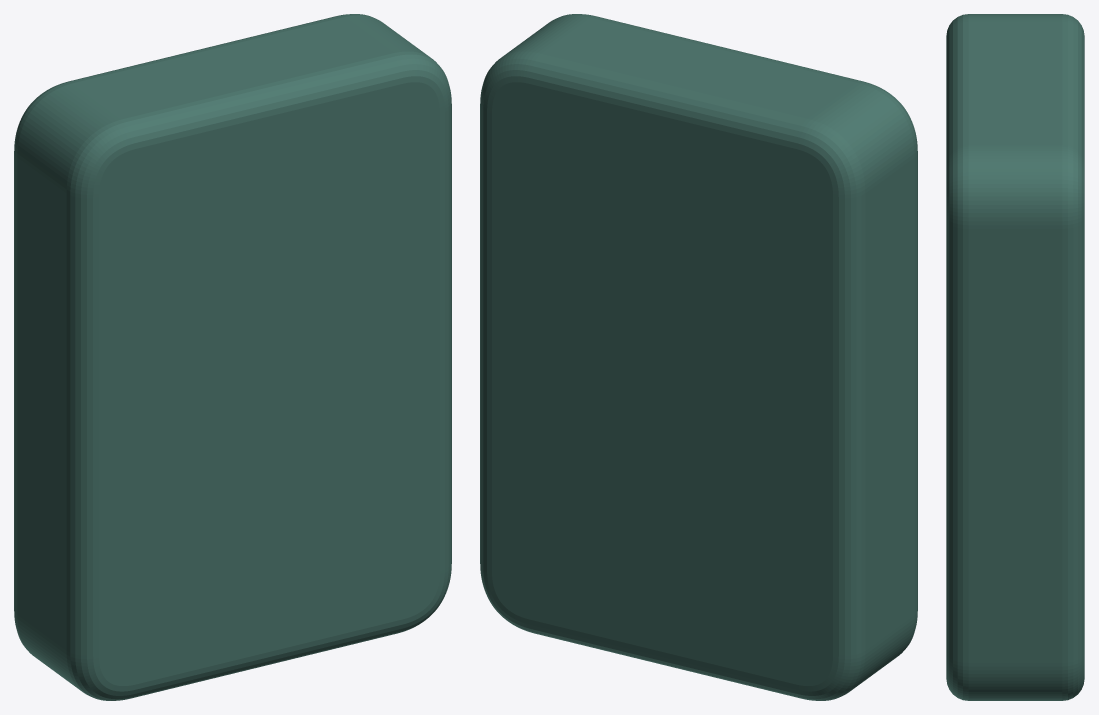
Rendered from rounded-block.glb.
3 views of the same model, side by side, from view 1: azimuth 30°, elevation 25°; view 2: azimuth 150°, elevation 25°; view 3: azimuth 270°, elevation 25° (orthographic). The views are drawn at different scales.
Parts seen in each view (by area): view 1: Rounded block; view 2: Rounded block; view 3: Rounded block.
Part boxes in pixels (x1,y1,x2,y2): Rounded block: (14,14,451,700); Rounded block: (480,14,917,700); Rounded block: (946,14,1084,700).
Size of the model in its own units: 2.24 by 3.24 by 0.74.
